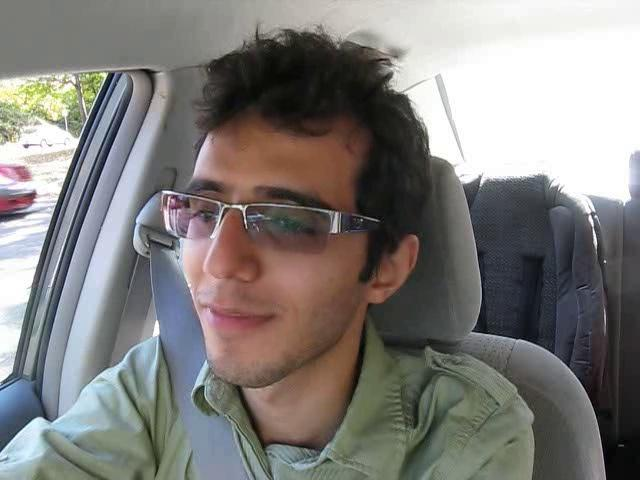close_eyeL: (167, 184, 226, 236)
close_eyeR: (249, 200, 331, 253)
no_yawn: (180, 294, 285, 345)
